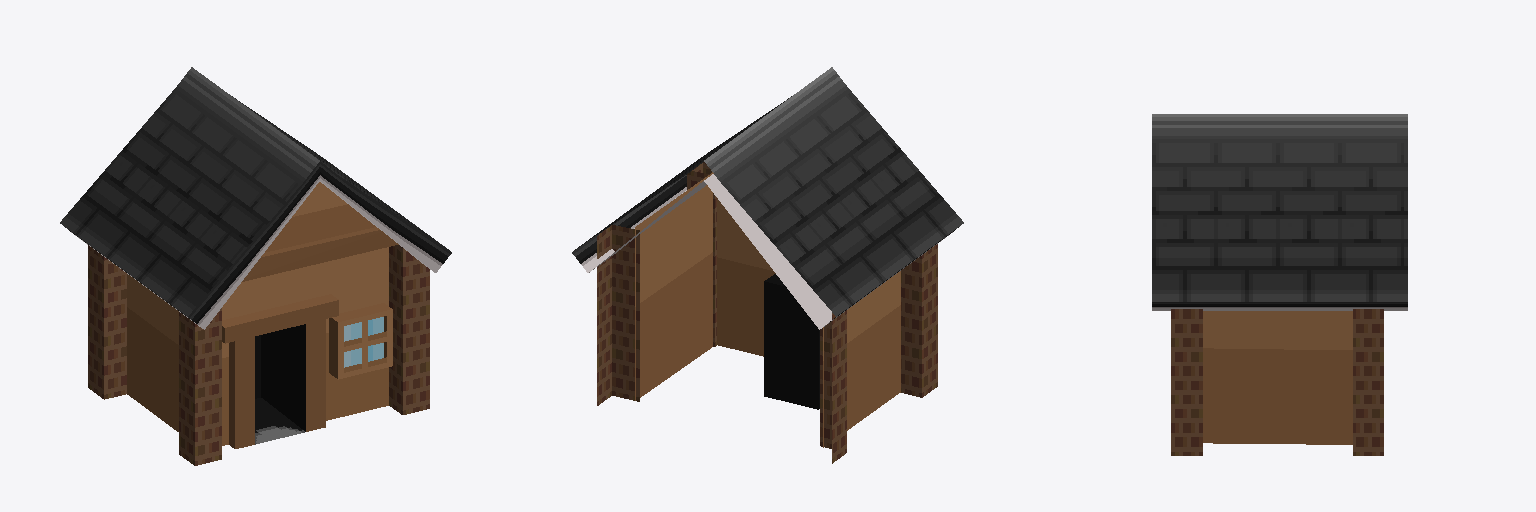
3 renders of one model, left to right at view 1: azimuth 30°, elevation 25°; view 2: azimuth 150°, elevation 25°; view 3: azimuth 270°, elevation 25°, orthographic.
Visible parts, largest first — view 1: House, Roof, Doorway; view 2: House, Roof, Doorway; view 3: Roof, House.
Boxes of the visible parts, box(x1,y1,x2,y2) form: House: box(88, 182, 429, 465); Roof: box(60, 67, 451, 329); Doorway: box(255, 324, 305, 444); House: box(597, 162, 937, 463); Roof: box(572, 67, 963, 329); Doorway: box(764, 274, 819, 409); Roof: box(1152, 114, 1407, 310); House: box(1171, 309, 1383, 455).
Size of the model in its own units: 9.7 by 9.96 by 8.15.
3 materials, 3 textured.